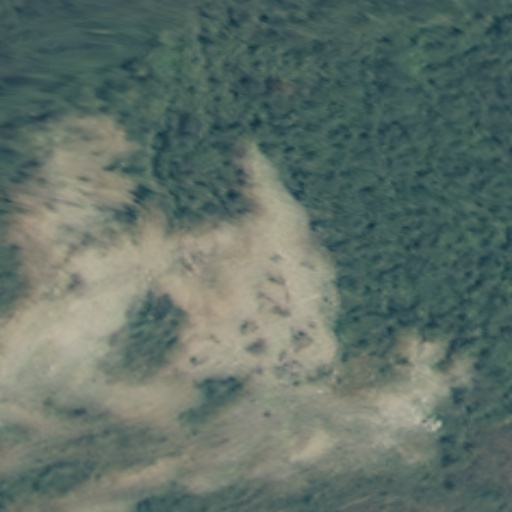landslide: (9, 121, 342, 385)
